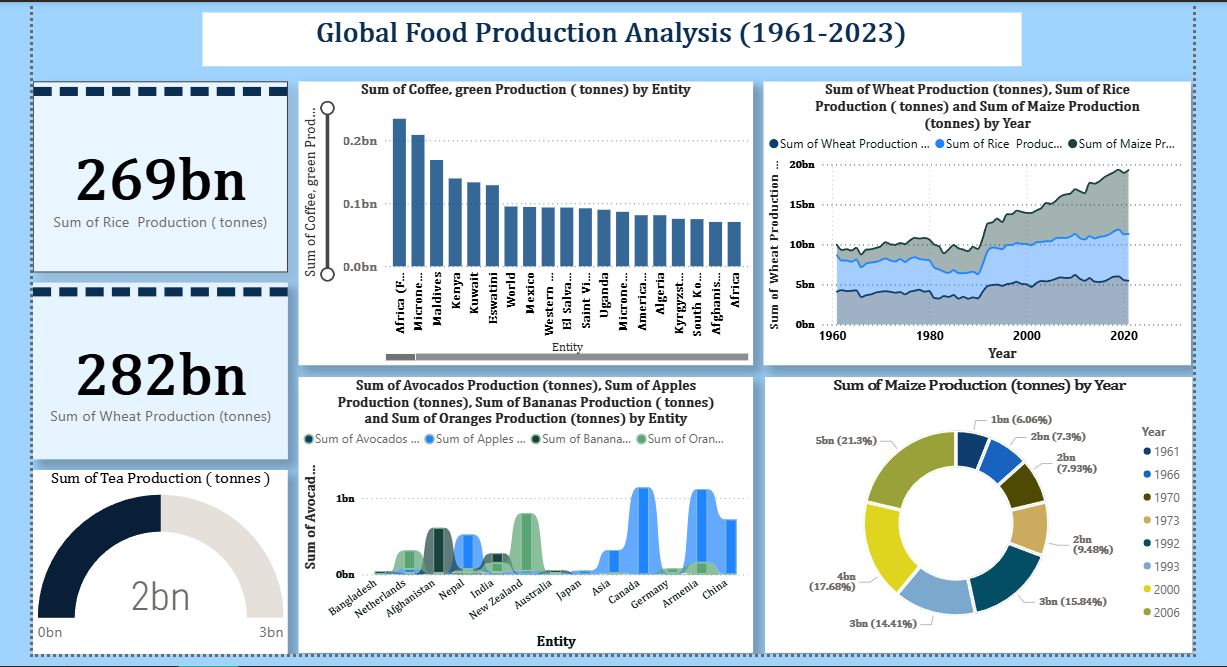

What the dashboard file says about the page in this screenshot:
{"tool":"powerbi","page":{"name":"Page 1","canvas":[1280,720],"ordinal":0},"visuals":[{"type":"card","fields":{"Values":["Sum(world food production.Rice  Production ( tonnes))"]},"box":[0,87.8,281.6,210.4],"z":0},{"type":"card","fields":{"Values":["Sum(world food production.Wheat Production (tonnes))"]},"box":[0,309.8,281.6,195.5],"z":1},{"type":"gauge","fields":{"Y":["Sum(world food production.Tea  Production ( tonnes ))"]},"box":[0,516.8,281.6,203.7],"z":2},{"type":"columnChart","fields":{"Category":["world food production.Entity"],"Y":["Sum(world food production.Coffee, green Production ( tonnes))"]},"box":[293.2,87.8,501.9,313.1],"z":3},{"type":"stackedAreaChart","fields":{"Category":["world food production.Year"],"Y":["Sum(world food production.Wheat Production (tonnes))","Sum(world food production.Rice  Production ( tonnes))","Sum(world food production.Maize Production (tonnes))"]},"box":[806.7,87.8,472.1,313.1],"z":4},{"type":"ribbonChart","fields":{"Category":["world food production.Entity"],"Y":["Sum(world food production.Avocados Production (tonnes))","Sum(world food production.Apples Production (tonnes))","Sum(world food production.Bananas  Production ( tonnes))","Sum(world food production.Oranges  Production (tonnes))"]},"box":[293.2,414.1,501.9,304.8],"z":5},{"type":"donutChart","fields":{"Y":["Sum(world food production.Maize Production (tonnes))"],"Series":["world food production.Year"]},"box":[808.4,414.1,472.1,304.8],"z":6},{"type":"textbox","box":[187.2,11.6,904.4,59.6],"z":7}]}

Visuals, with their boxes on the page's 1280x720 design canvas (x1, y1, x2, y2). These are canvas units, not pixel positions in the 1227x667 screenshot, which may show the page scaled, cropped or inside an application window:
card - Sum(world food production.Rice  Production ( tonnes)): bbox=[0, 88, 282, 298]
card - Sum(world food production.Wheat Production (tonnes)): bbox=[0, 310, 282, 505]
gauge - Sum(world food production.Tea  Production ( tonnes )): bbox=[0, 517, 282, 720]
columnChart - world food production.Entity x Sum(world food production.Coffee, green Production ( tonnes)): bbox=[293, 88, 795, 401]
stackedAreaChart - world food production.Year x Sum(world food production.Wheat Production (tonnes)): bbox=[807, 88, 1279, 401]
ribbonChart - world food production.Entity x Sum(world food production.Avocados Production (tonnes)): bbox=[293, 414, 795, 719]
donutChart - Sum(world food production.Maize Production (tonnes)) x world food production.Year: bbox=[808, 414, 1280, 719]
textbox: bbox=[187, 12, 1092, 71]
